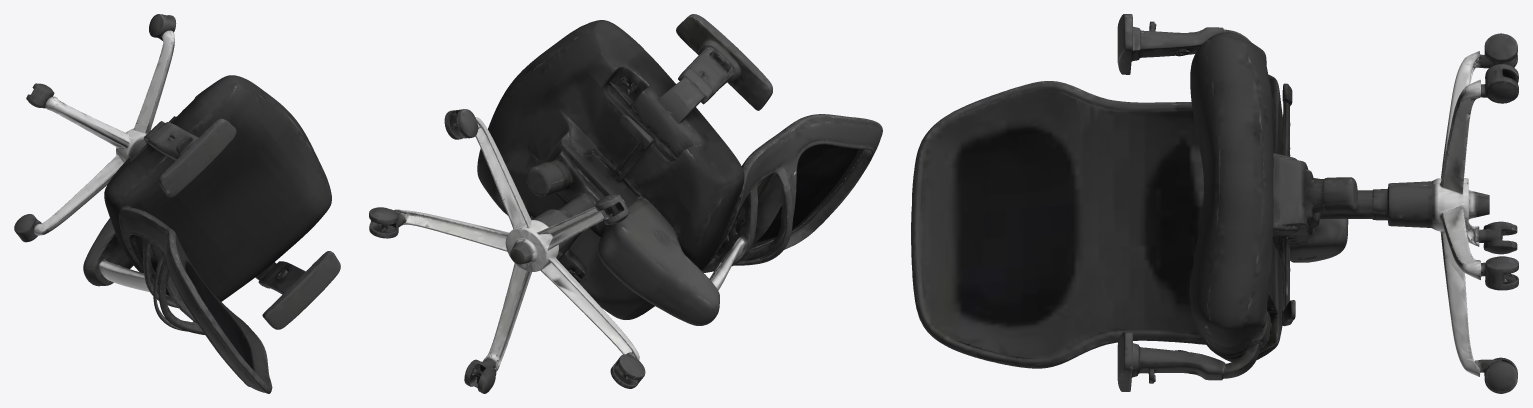
3 renders of one model, left to right at view 1: azimuth 30°, elevation 25°; view 2: azimuth 150°, elevation 25°; view 3: azimuth 270°, elevation 25°, orthographic. The views are drawn at different scales.
Visible parts, largest first — view 1: Kapil.001; view 2: Kapil.001; view 3: Kapil.001.
Part boxes in pixels (left/top/right/bottom): Kapil.001: left=14, top=14, right=340, bottom=393; Kapil.001: left=369, top=14, right=882, bottom=393; Kapil.001: left=911, top=14, right=1518, bottom=393.
Bounding box in the file's own units: 0.0213 × 0.0211 × 0.0323.
1 material, 1 textured.
